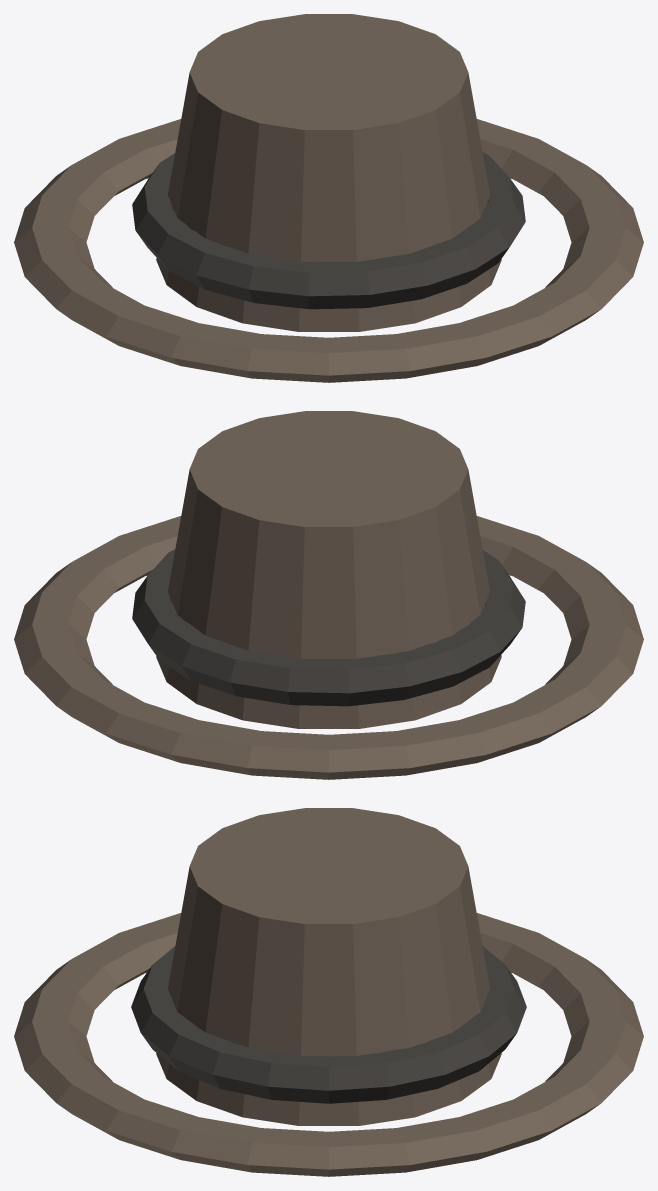
File: WideHat.fbx
3 renders of one model, top to bottom at view 1: azimuth 30°, elevation 25°; view 2: azimuth 150°, elevation 25°; view 3: azimuth 270°, elevation 25°, orthographic.
Parts seen in each view (by area): view 1: WideHat; view 2: WideHat; view 3: WideHat.
Boxes of the visible parts, <box> form: WideHat: <box>14,14,643,382</box>; WideHat: <box>14,411,643,779</box>; WideHat: <box>14,808,643,1176</box>.
Size of the model in its own units: 19.44 by 6.4 by 19.44.
